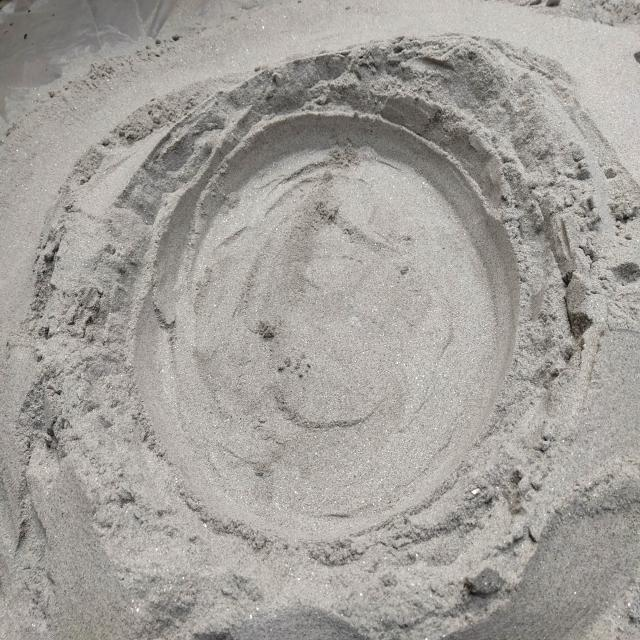C40: (135, 113, 518, 538)
